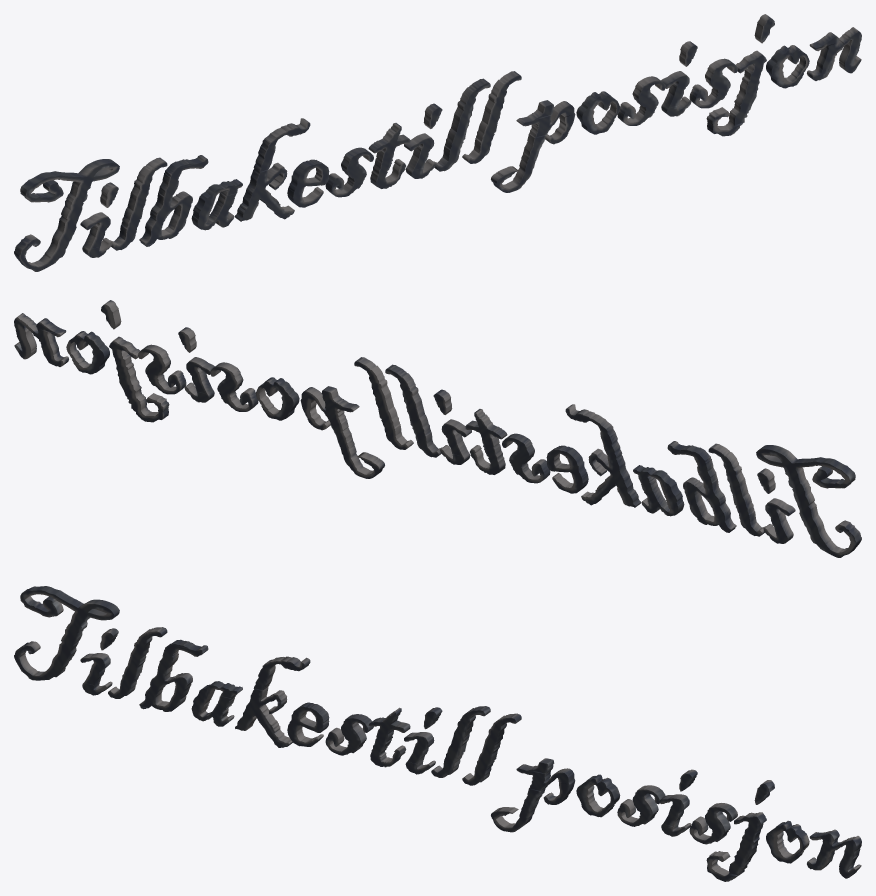
File: Menu_tilbakestillposisjon01.fbx
3 renders of one model, top to bottom at view 1: azimuth 30°, elevation 25°; view 2: azimuth 150°, elevation 25°; view 3: azimuth 330°, elevation 25°, orthographic.
Parts seen in each view (by area): view 1: Menu_tilbakestillposisjon01; view 2: Menu_tilbakestillposisjon01; view 3: Menu_tilbakestillposisjon01.
Boxes of the visible parts, x1,y1,x2,y2 form: Menu_tilbakestillposisjon01: (14,14,861,271); Menu_tilbakestillposisjon01: (14,300,861,557); Menu_tilbakestillposisjon01: (14,586,861,881).
Bounding box in the file's own units: 3.14 × 0.4567 × 0.0374.
1 material, 1 textured.
